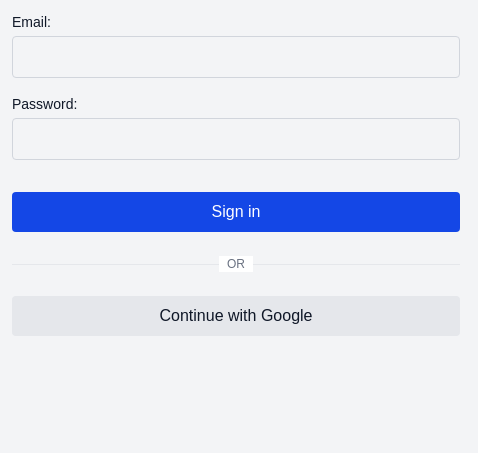
Test case: SignInForm › validation › shows required errors when submitting an empty form
Click the button "Sign in".
click(236, 212)  # box [12,192,460,232]
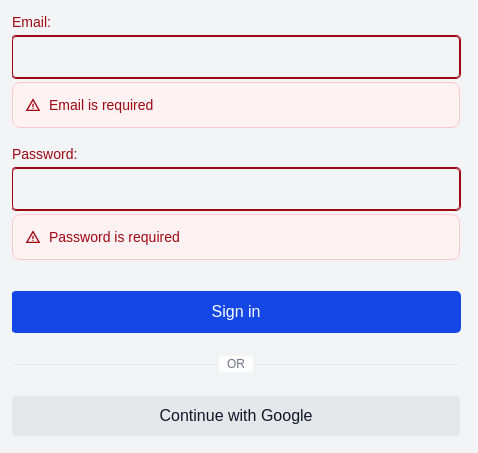
Expected: the text "Email is required" is shown, [25,97,153,113]
Expected: the text "Password is required" is shown, [25,229,180,245]
